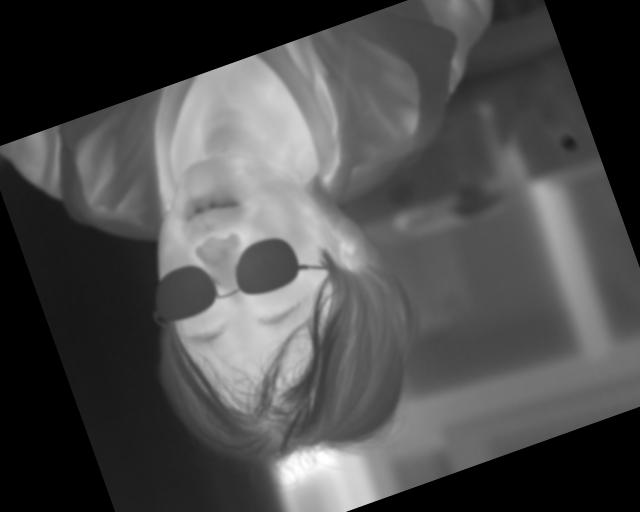face: (96, 108, 443, 504)
